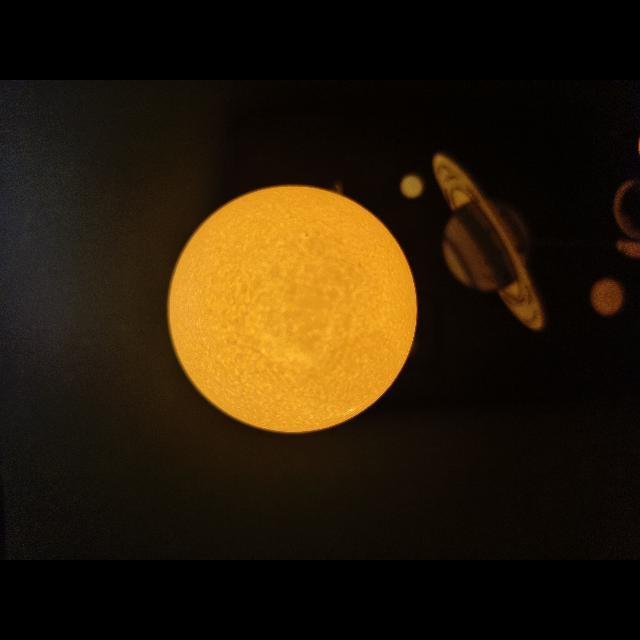AA - Premium: (168, 185, 416, 433)
